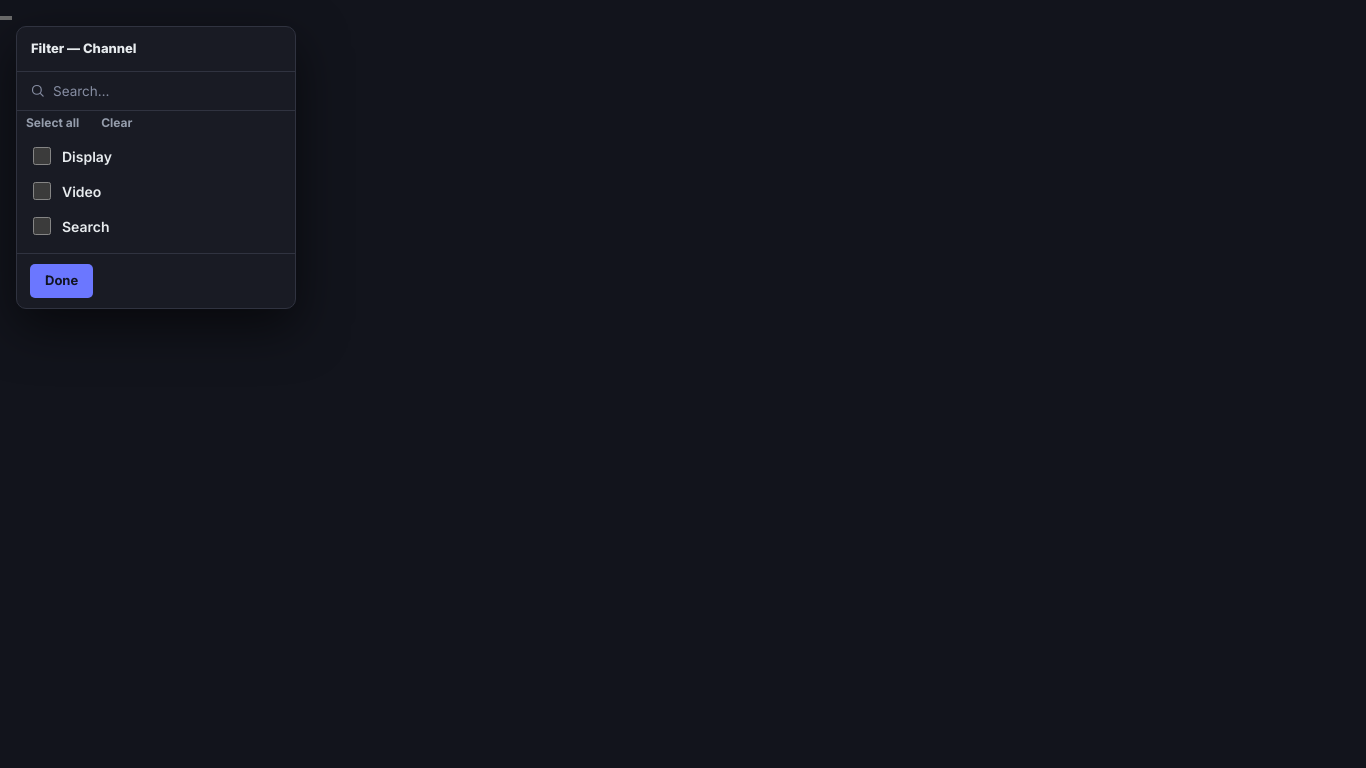
Test case: DataTableValueFilterPopover › should narrow the list to what the search matches
# that is typed into the search
Step 1. Type "vid" into the field named "Search channel values" → point(168, 91), box [53, 80, 282, 101]
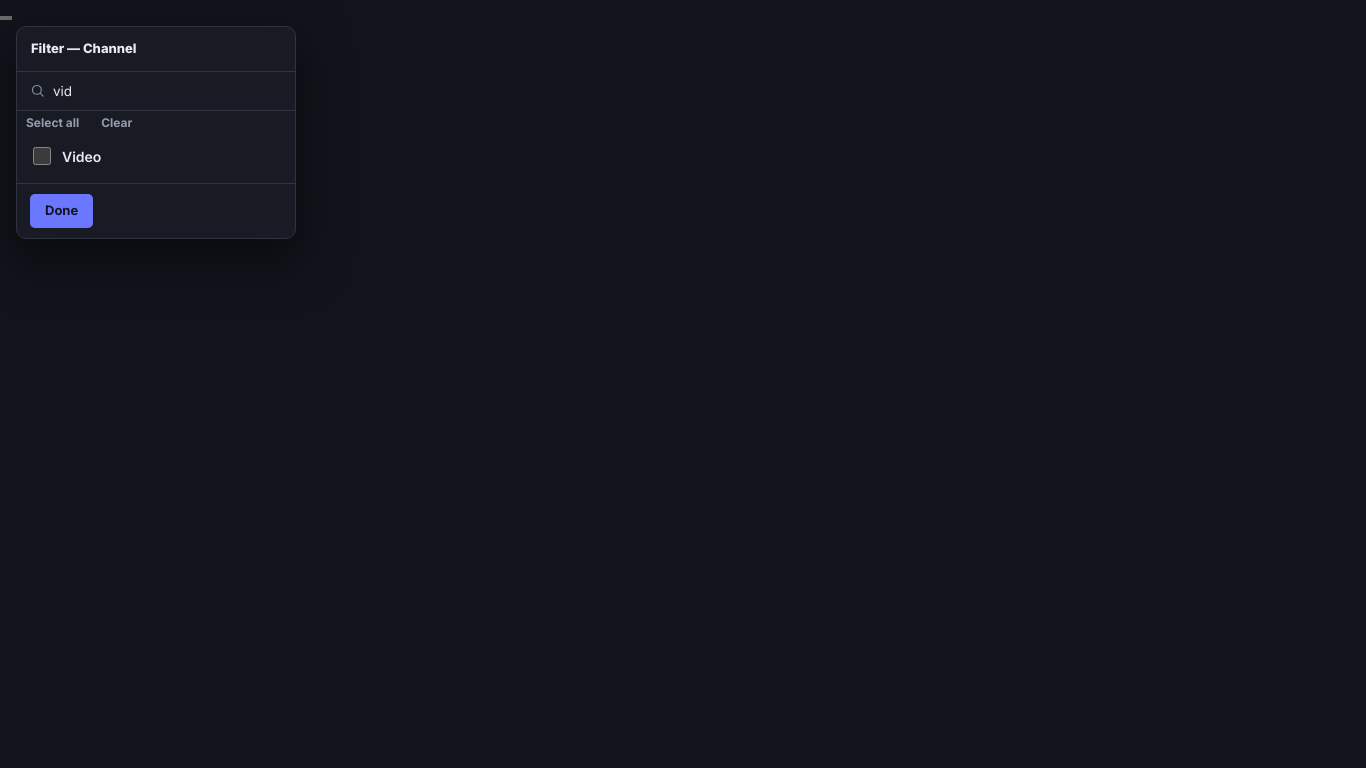
Expected: the checkbox labelled "Video" is shown, [33, 147, 51, 165]
Expected: the label "Display" is gone
